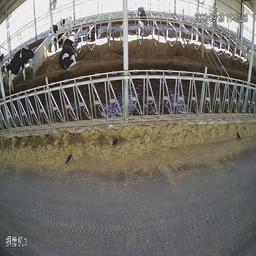cow: (7, 46, 38, 95), (58, 31, 81, 70), (48, 15, 72, 38), (84, 22, 104, 46), (137, 6, 151, 34)
